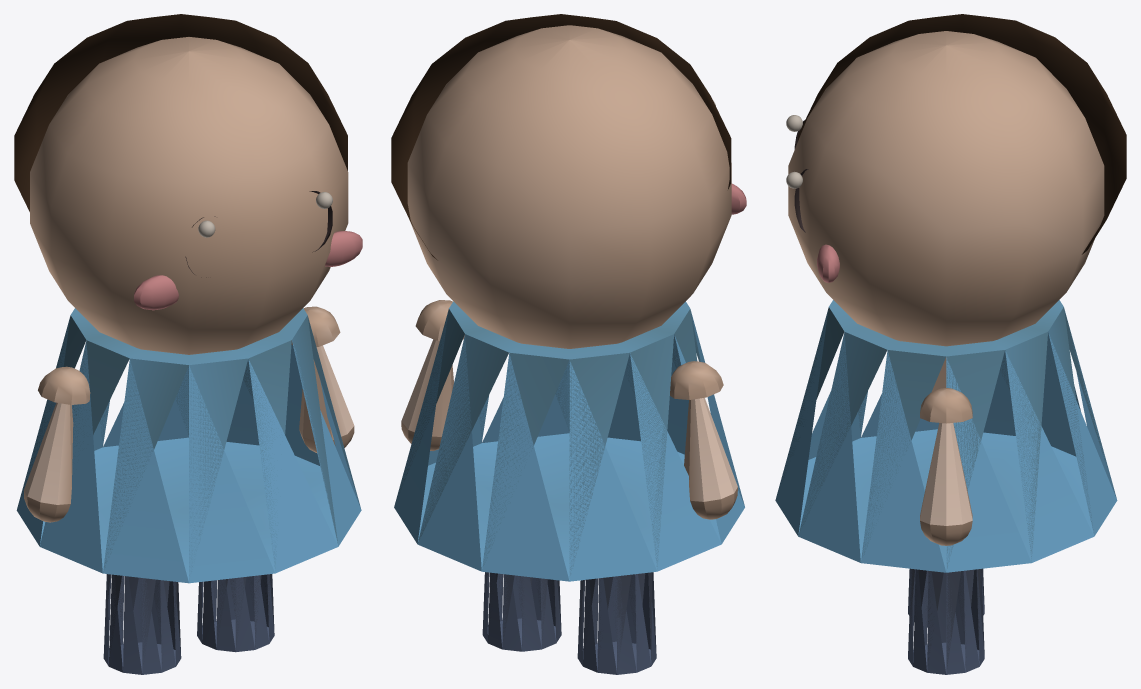
3 renders of one model, left to right at view 1: azimuth 30°, elevation 25°; view 2: azimuth 150°, elevation 25°; view 3: azimuth 270°, elevation 25°, orthographic. The views are drawn at different scales.
Parts seen in each view (by area): view 1: pet_p1ba32084; view 2: pet_p1ba32084; view 3: pet_p1ba32084.
Boxes of the visible parts, <box> form: pet_p1ba32084: <box>14,14,362,674</box>; pet_p1ba32084: <box>391,14,746,674</box>; pet_p1ba32084: <box>775,14,1126,674</box>.
Size of the model in its own units: 0.3464 by 0.625 by 0.3287.
